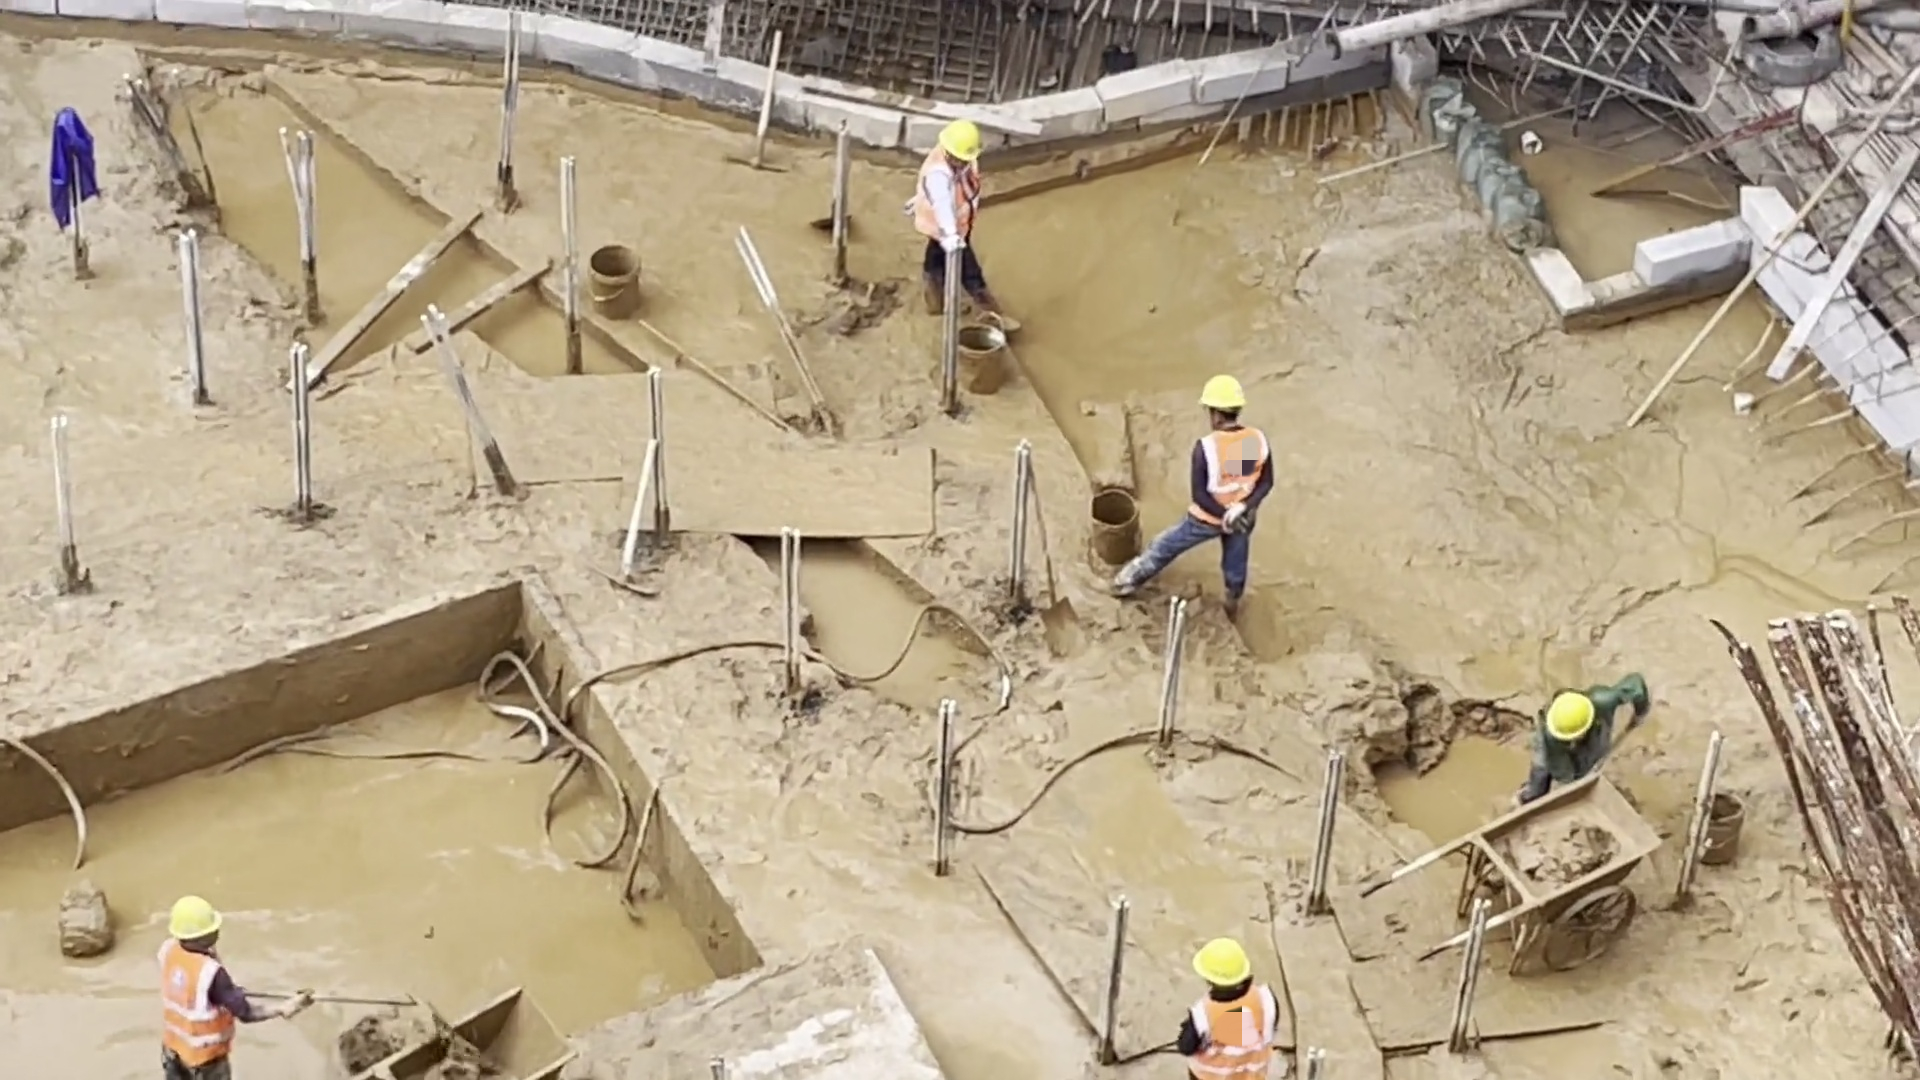helmet: (1194, 939, 1254, 988), (167, 898, 225, 946), (1547, 688, 1596, 744), (937, 118, 982, 163), (1198, 372, 1249, 410)
person: (1102, 374, 1271, 606), (157, 885, 311, 1080), (904, 114, 1028, 337), (1518, 672, 1646, 817), (1173, 932, 1284, 1079)
vest: (159, 937, 240, 1064), (1189, 983, 1277, 1075), (1188, 426, 1267, 527), (912, 146, 982, 244)
